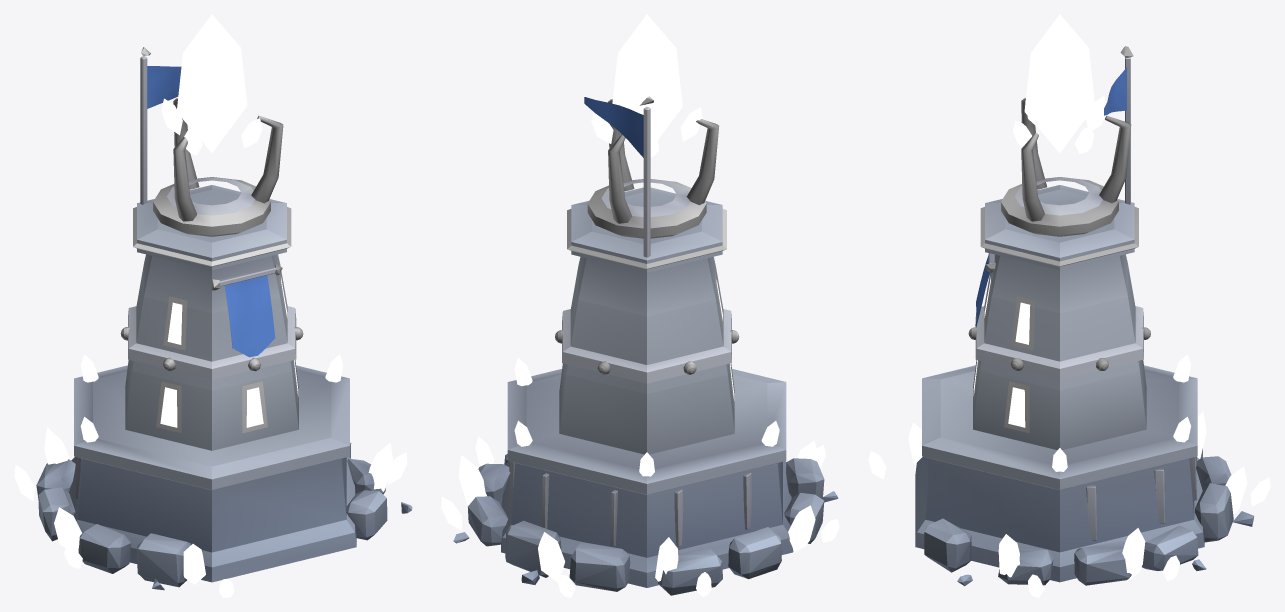
Rendered from frost_0_3.glb.
3 renders of one model, left to right at view 1: azimuth 30°, elevation 25°; view 2: azimuth 150°, elevation 25°; view 3: azimuth 270°, elevation 25°, orthographic.
Parts seen in each view (by area): view 1: Tower, Turret; view 2: Tower, Turret; view 3: Tower, Turret.
Boxes of the visible parts, <box> form: Tower: <box>14,47,412,597</box>; Turret: <box>153,14,283,236</box>; Tower: <box>441,96,839,597</box>; Turret: <box>587,14,719,238</box>; Tower: <box>868,46,1270,597</box>; Turret: <box>1001,14,1131,236</box>.
Bounding box in the file's own units: 4.1 × 5.7 × 4.09.
